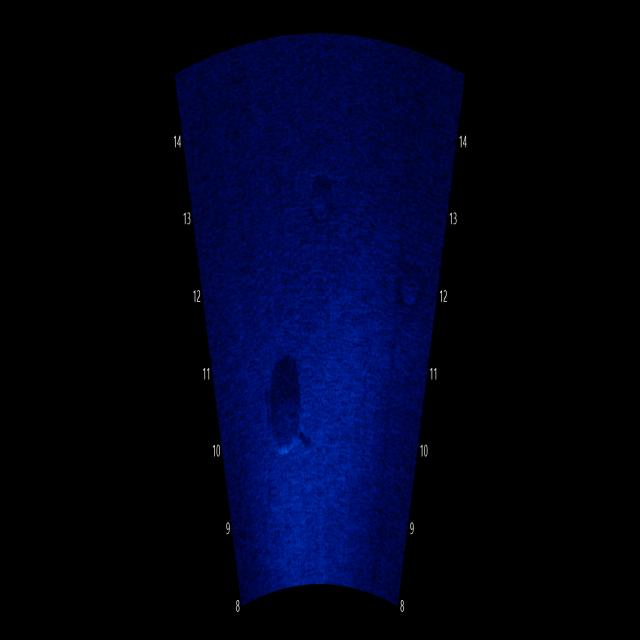circle: (259, 367, 318, 472), (300, 148, 342, 238), (390, 238, 429, 320)
